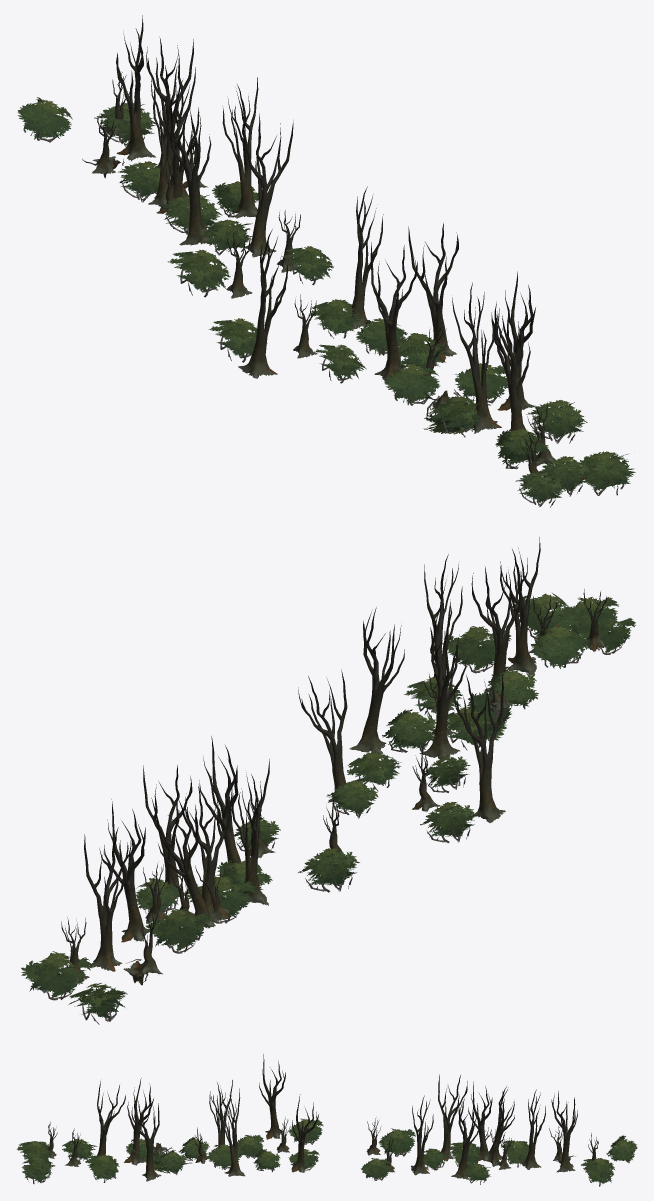
The model's file is forest2Daer_LOD.fbx.
3 views of the same model, one above another, from view 1: azimuth 30°, elevation 25°; view 2: azimuth 150°, elevation 25°; view 3: azimuth 270°, elevation 25° (orthographic). The views are drawn at different scales.
Parts seen in each view (by area): view 1: Tree2Daer_LOD0; view 2: Tree2Daer_LOD0; view 3: Tree2Daer_LOD0.
Part boxes in pixels (x1=…): Tree2Daer_LOD0: x1=17, y1=15, x2=635, y2=507; Tree2Daer_LOD0: x1=21, y1=537, x2=635, y2=1024; Tree2Daer_LOD0: x1=16, y1=1054, x2=637, y2=1186.
Size of what is drawn, in the model's own units: 2232 by 1685 by 10206.
